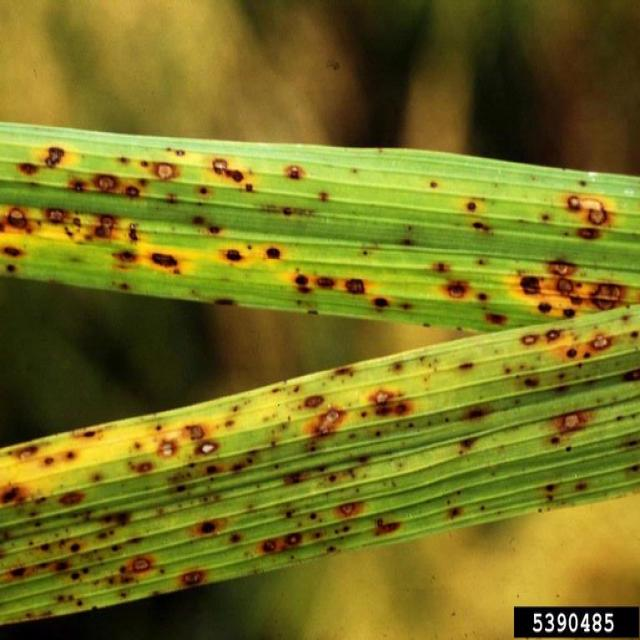Brown spot: (360, 388, 419, 422), (0, 204, 42, 241), (542, 409, 602, 434), (204, 152, 252, 182), (588, 276, 630, 310), (34, 142, 84, 170), (79, 212, 120, 246), (310, 407, 348, 439), (548, 278, 586, 306), (412, 354, 443, 388), (261, 202, 319, 220), (150, 249, 189, 275), (258, 532, 306, 553), (514, 270, 546, 298), (90, 168, 123, 194), (458, 402, 496, 424), (0, 481, 28, 508), (375, 513, 404, 539), (592, 326, 616, 357), (587, 197, 616, 222), (123, 457, 157, 478), (6, 441, 38, 463), (440, 278, 470, 301), (452, 435, 484, 456), (157, 437, 181, 465), (571, 223, 604, 243), (211, 248, 246, 266), (130, 550, 156, 574), (544, 258, 578, 276), (101, 509, 139, 525), (285, 159, 309, 183), (176, 570, 212, 586), (610, 436, 640, 455), (194, 520, 225, 538), (154, 161, 180, 182), (343, 274, 369, 295), (332, 502, 366, 518), (482, 309, 510, 328), (369, 292, 394, 313), (456, 356, 477, 381), (0, 242, 29, 260), (466, 216, 495, 234), (74, 428, 108, 443), (329, 363, 357, 381), (44, 206, 70, 225), (124, 436, 148, 456), (110, 247, 138, 264), (60, 489, 88, 506), (264, 243, 289, 262), (210, 295, 244, 308), (462, 192, 484, 212), (518, 330, 542, 348), (285, 469, 312, 485), (125, 217, 142, 242), (396, 295, 416, 316), (564, 194, 583, 216), (302, 392, 326, 409), (184, 421, 208, 438), (226, 529, 247, 547), (15, 162, 40, 177), (429, 260, 454, 275), (522, 374, 544, 391), (333, 525, 356, 541), (0, 264, 26, 278), (64, 177, 88, 192), (202, 458, 222, 476), (350, 453, 374, 468), (108, 278, 133, 292), (70, 210, 88, 229), (473, 285, 491, 304), (560, 301, 578, 320), (546, 326, 566, 343), (192, 184, 216, 198), (193, 440, 217, 454), (316, 275, 338, 290), (623, 366, 640, 385), (38, 451, 57, 468), (532, 210, 555, 224), (538, 436, 564, 448), (167, 190, 184, 208), (574, 477, 591, 495), (228, 456, 245, 474), (318, 185, 334, 204), (387, 360, 406, 376), (446, 504, 465, 520), (625, 463, 640, 483), (303, 508, 324, 522), (208, 222, 224, 240), (562, 344, 578, 362), (534, 301, 554, 315), (60, 448, 80, 462), (289, 272, 312, 284), (116, 152, 133, 168), (576, 175, 592, 192), (539, 482, 565, 492), (564, 440, 577, 460), (170, 481, 190, 494), (11, 564, 27, 580), (95, 529, 118, 540), (186, 216, 206, 228), (539, 493, 559, 505), (324, 471, 340, 486), (91, 469, 106, 485), (245, 448, 258, 466), (397, 238, 420, 248), (222, 418, 237, 433), (34, 489, 49, 504), (124, 184, 140, 198), (242, 183, 258, 197), (375, 146, 391, 160), (348, 167, 365, 180), (300, 443, 320, 454), (243, 396, 257, 411), (53, 559, 72, 570), (138, 154, 150, 171), (616, 313, 634, 324), (478, 500, 489, 518), (476, 254, 490, 268), (400, 221, 419, 231), (175, 145, 188, 159), (357, 247, 371, 260), (501, 362, 514, 376), (38, 539, 52, 552), (156, 505, 168, 520), (212, 489, 222, 507), (610, 412, 626, 423), (68, 542, 85, 552), (62, 225, 75, 238), (428, 176, 440, 190), (628, 327, 640, 341), (35, 560, 49, 572), (42, 608, 56, 620), (630, 410, 640, 426), (137, 175, 149, 188), (228, 401, 240, 414), (199, 495, 211, 508), (3, 526, 12, 543), (58, 535, 67, 552), (558, 368, 568, 383), (149, 423, 164, 433), (452, 319, 463, 332), (26, 539, 37, 552), (69, 572, 83, 582), (34, 519, 44, 533), (164, 140, 173, 155), (576, 360, 587, 372), (265, 437, 277, 448), (118, 589, 130, 600), (27, 508, 40, 518), (148, 588, 162, 597), (313, 530, 323, 542), (81, 564, 91, 576), (110, 544, 120, 556), (280, 421, 290, 433), (247, 240, 255, 254), (584, 348, 592, 362), (374, 426, 381, 442), (328, 544, 339, 554), (119, 564, 128, 576), (404, 459, 413, 471), (55, 594, 65, 604), (89, 602, 99, 612), (24, 610, 34, 620), (74, 598, 85, 607), (426, 418, 434, 430), (419, 321, 432, 328), (92, 580, 100, 591), (303, 307, 317, 313), (273, 461, 280, 473), (444, 412, 451, 424), (292, 384, 300, 394), (269, 427, 278, 435), (159, 567, 166, 577), (68, 591, 74, 602), (390, 485, 400, 491), (519, 361, 525, 370), (536, 352, 542, 361), (530, 366, 536, 372)
